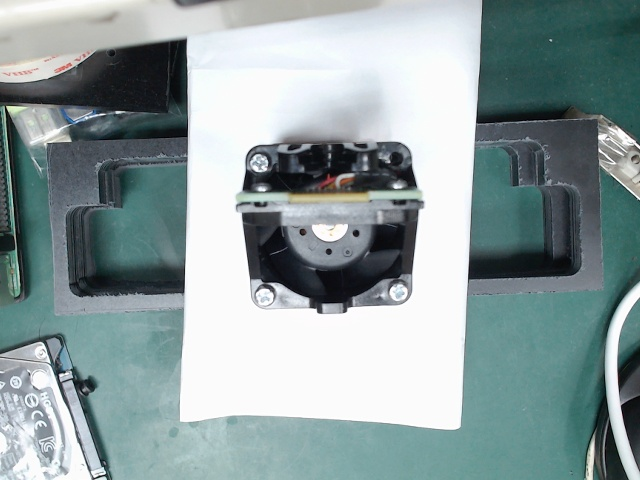Phase1_OK: (217, 114, 435, 320)
